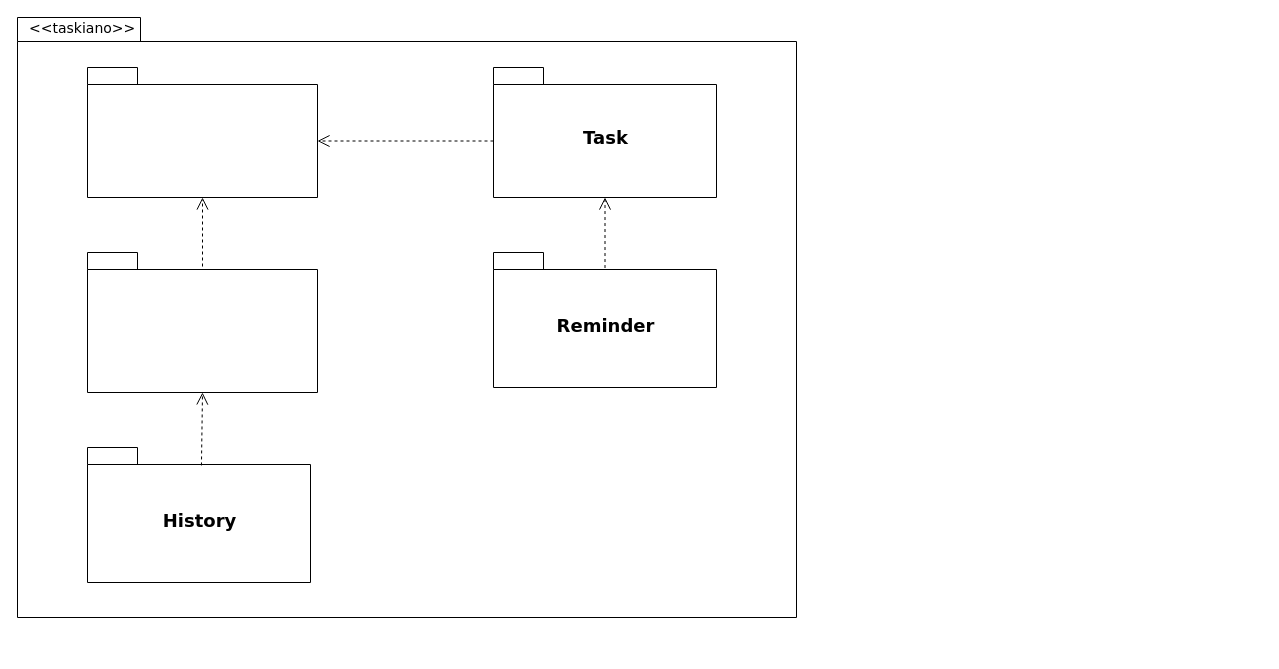
Image size: 1279x669. Some labels were removed from this diagram. The shapes that lost their labels are listed below. From the top down, each one's centre as x and y in pixels, then its label:
At (x=202, y=132): "Project".
At (x=202, y=322): "User".
